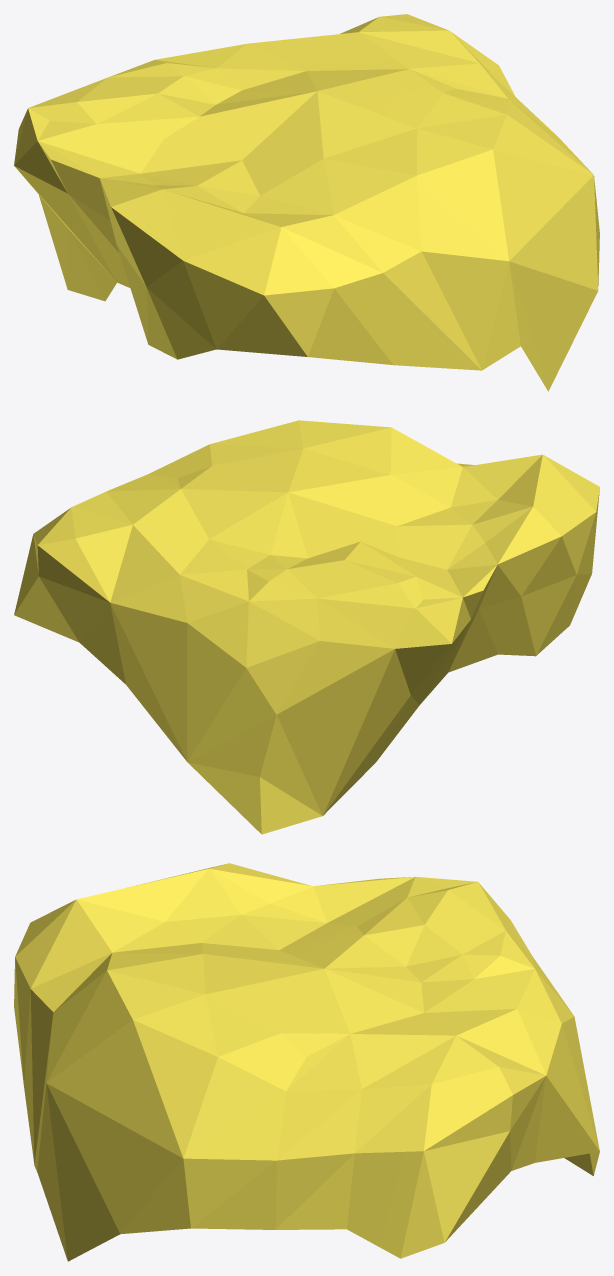
File: ground_023.fbx
3 renders of one model, top to bottom at view 1: azimuth 30°, elevation 25°; view 2: azimuth 150°, elevation 25°; view 3: azimuth 270°, elevation 25°, orthographic. The views are drawn at different scales.
Visible parts, largest first — view 1: ground.023; view 2: ground.023; view 3: ground.023.
Part boxes in pixels (x1,y1,x2,y2): ground.023: (14, 14, 599, 391); ground.023: (14, 420, 599, 834); ground.023: (14, 863, 599, 1261).
Size of the model in its own units: 2139 by 1033 by 2119.
1 material, 1 textured.
